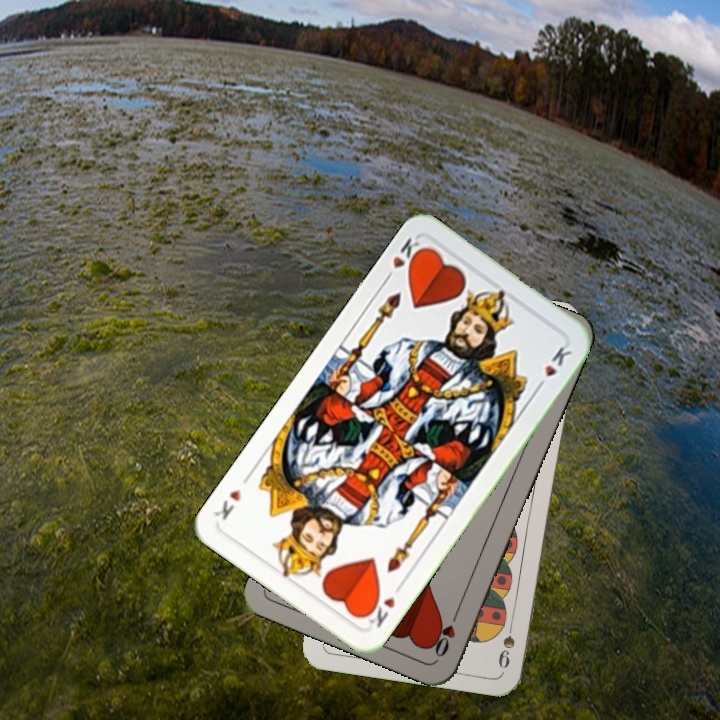HK: (380, 233, 427, 285), (359, 590, 398, 631)
HO: (428, 605, 462, 660)
S9: (494, 612, 518, 671)
